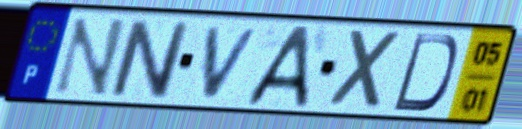A: (241, 23, 316, 109)
D: (388, 30, 462, 114)
N: (107, 16, 191, 102), (49, 15, 131, 99)
V: (200, 25, 265, 102)
X: (326, 26, 407, 113)
